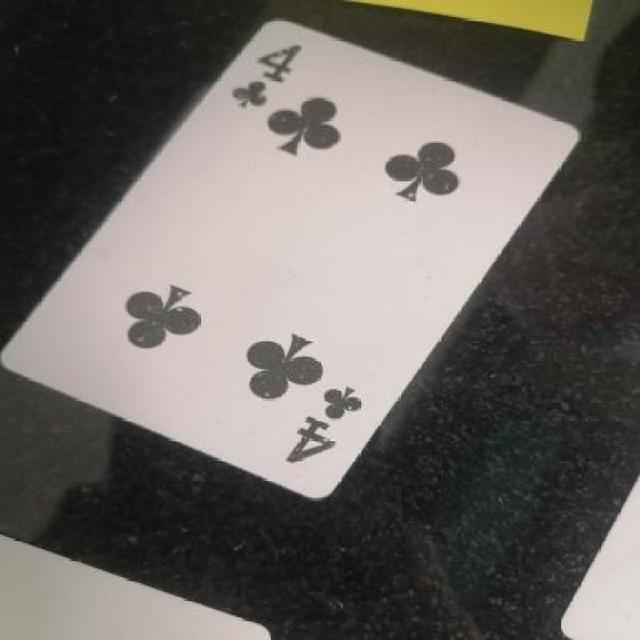4C: (208, 22, 329, 128), (284, 382, 379, 481)
